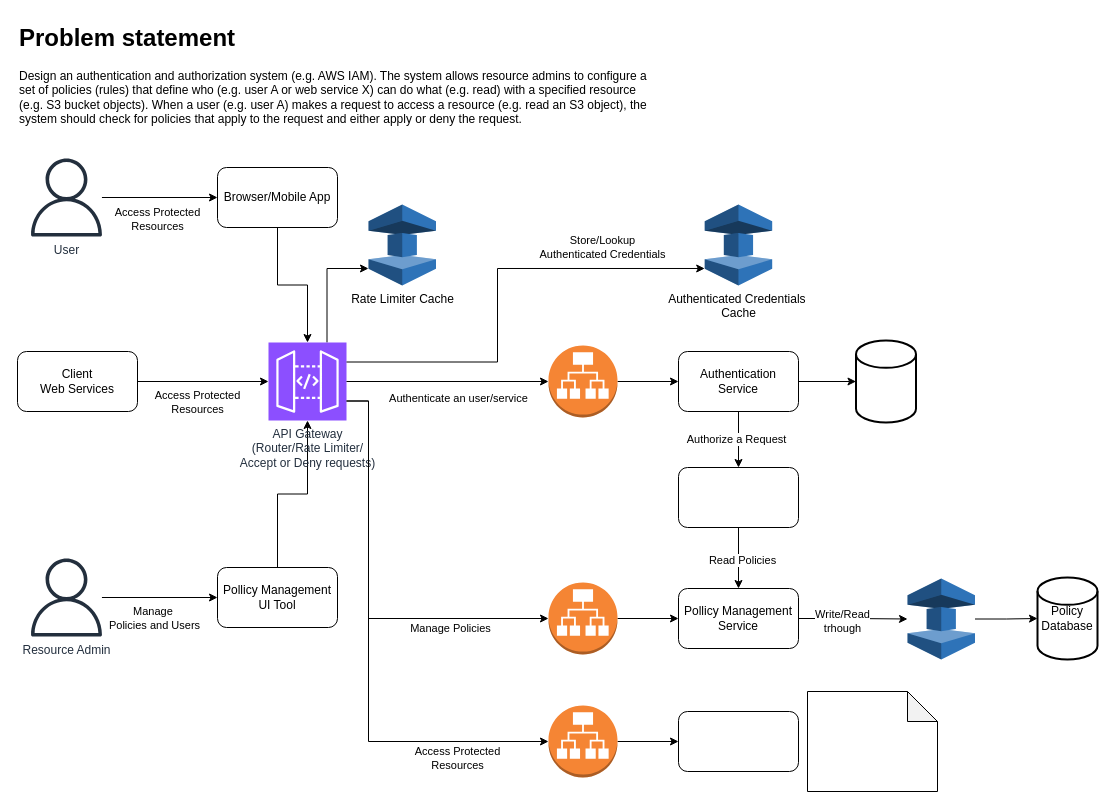
Some shapes in this 1116 by 809 pixel diagram are drawn without their labels. The centre of each missing label's shape, as x and y in pixels:
All services are also protected resources: [872,741]
Authorization Service: [738,497]
Credentials Database: [885,381]
Policy Cache: [940,619]
Protected Resources: [738,741]
